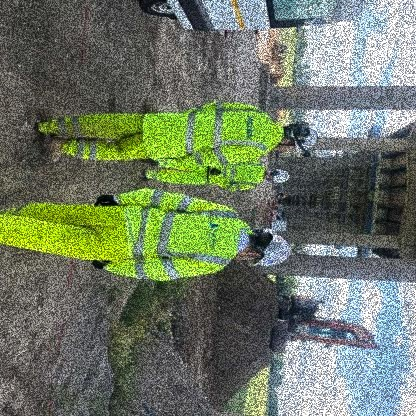vest: (140, 96, 286, 170)
white: (103, 186, 252, 279), (200, 158, 267, 191), (244, 226, 292, 269), (284, 122, 320, 159), (273, 168, 291, 184)
